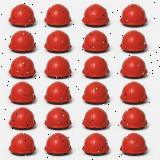Helmet: (81, 3, 110, 26), (8, 3, 36, 26), (44, 3, 72, 26), (120, 3, 148, 26), (120, 29, 148, 52), (8, 29, 36, 52), (82, 29, 110, 52), (119, 107, 148, 129), (81, 55, 110, 77), (81, 106, 110, 128), (120, 82, 148, 104), (44, 132, 72, 154), (8, 81, 36, 103), (82, 82, 110, 104), (44, 81, 72, 103), (44, 56, 72, 78), (120, 133, 148, 154), (120, 56, 148, 77), (82, 133, 110, 154), (8, 133, 36, 154), (8, 107, 36, 128), (8, 56, 36, 77), (44, 30, 72, 51), (44, 107, 72, 128)
